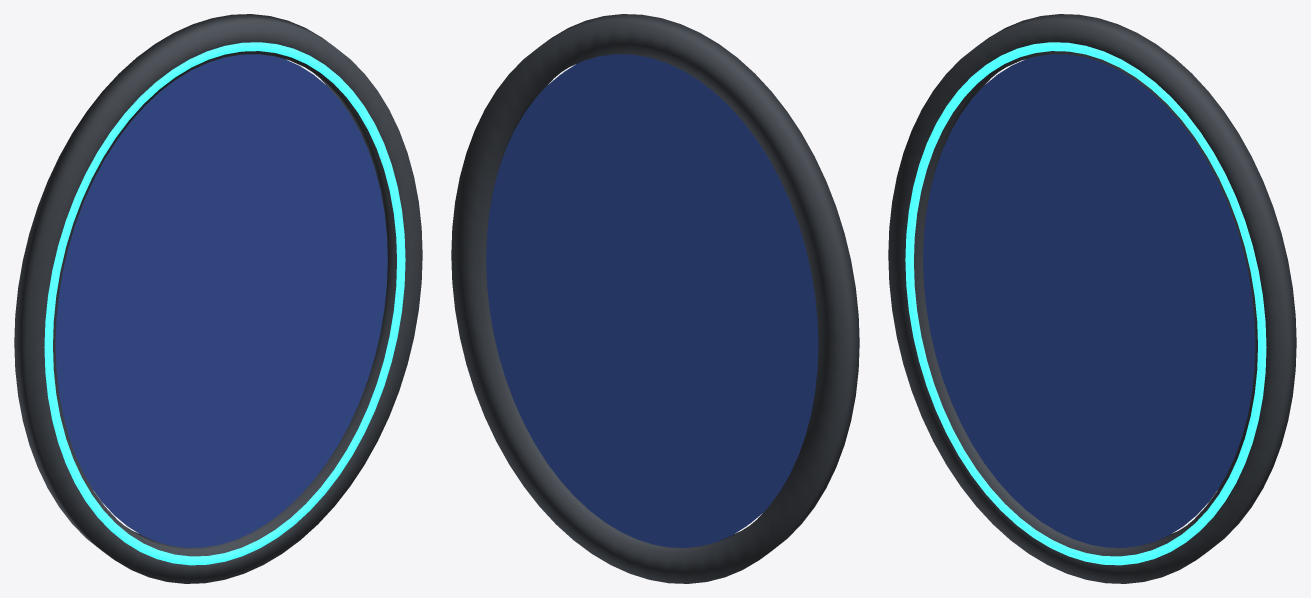
Rendered from Blue_Portal_Frame.fbx.
3 views of the same model, side by side, from view 1: azimuth 30°, elevation 25°; view 2: azimuth 150°, elevation 25°; view 3: azimuth 330°, elevation 25° (orthographic).
Visible parts, largest first — view 1: CGS_Portal_BLUE_ViewPlane, CGS_Portal_BLUE_Frame, CGS_Portal_BLUE_Glow; view 2: CGS_Portal_BLUE_ViewPlane, CGS_Portal_BLUE_Frame; view 3: CGS_Portal_BLUE_ViewPlane, CGS_Portal_BLUE_Frame, CGS_Portal_BLUE_Glow.
Boxes of the visible parts, x1,y1,x2,y2 form: CGS_Portal_BLUE_ViewPlane: [55, 54, 387, 547]; CGS_Portal_BLUE_Frame: [14, 14, 422, 583]; CGS_Portal_BLUE_Glow: [44, 42, 405, 565]; CGS_Portal_BLUE_ViewPlane: [486, 54, 818, 547]; CGS_Portal_BLUE_Frame: [451, 14, 859, 583]; CGS_Portal_BLUE_ViewPlane: [923, 54, 1255, 547]; CGS_Portal_BLUE_Frame: [888, 14, 1296, 583]; CGS_Portal_BLUE_Glow: [905, 42, 1266, 565].
Size of the model in its own units: 300 by 400 by 16.9.
